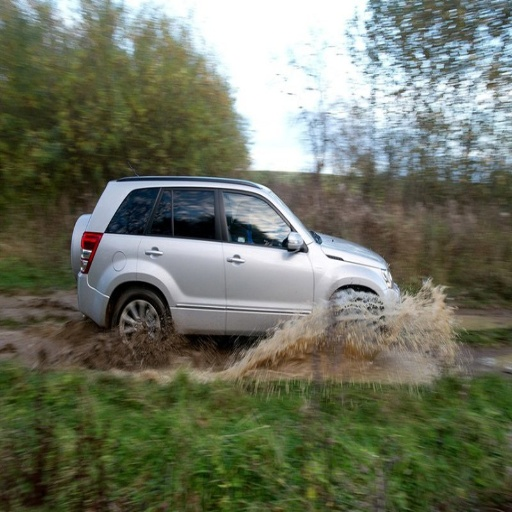back_right_door: (137, 188, 224, 332)
front_right_door: (221, 187, 313, 341)
trunk: (88, 239, 133, 297)
